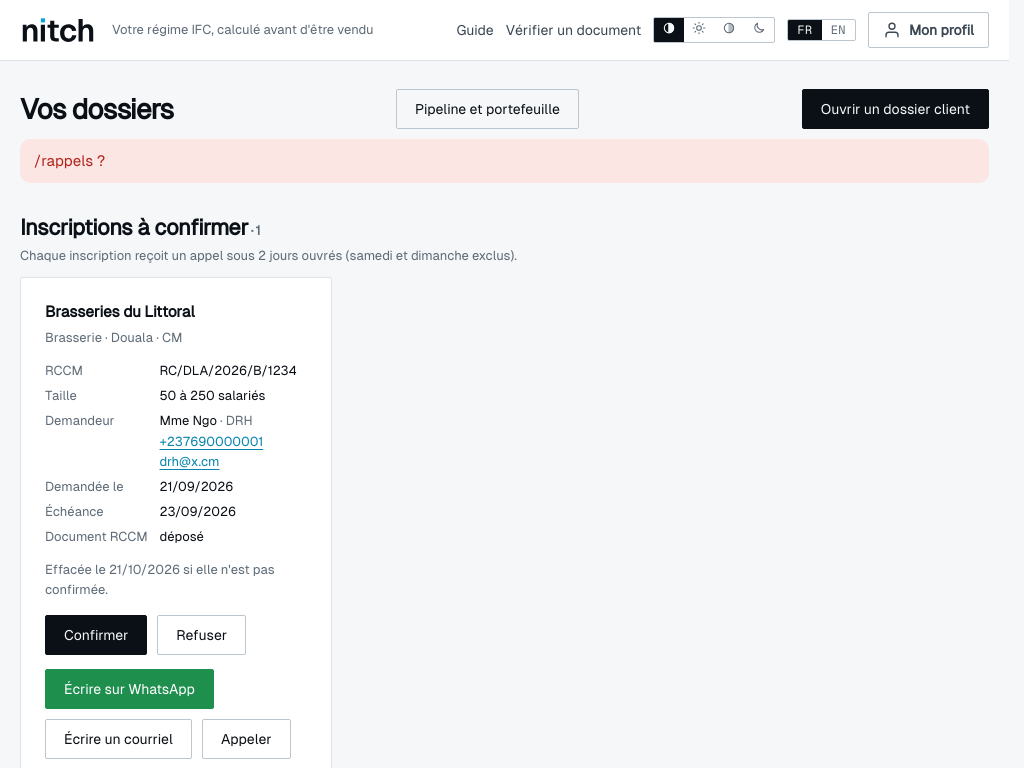
la file des inscriptions › confirmer envoie ce qui a été vérifié et le conseiller choisi, puis relit la file
Click the button "Confirmer" at (96, 635), box [45, 615, 147, 655]
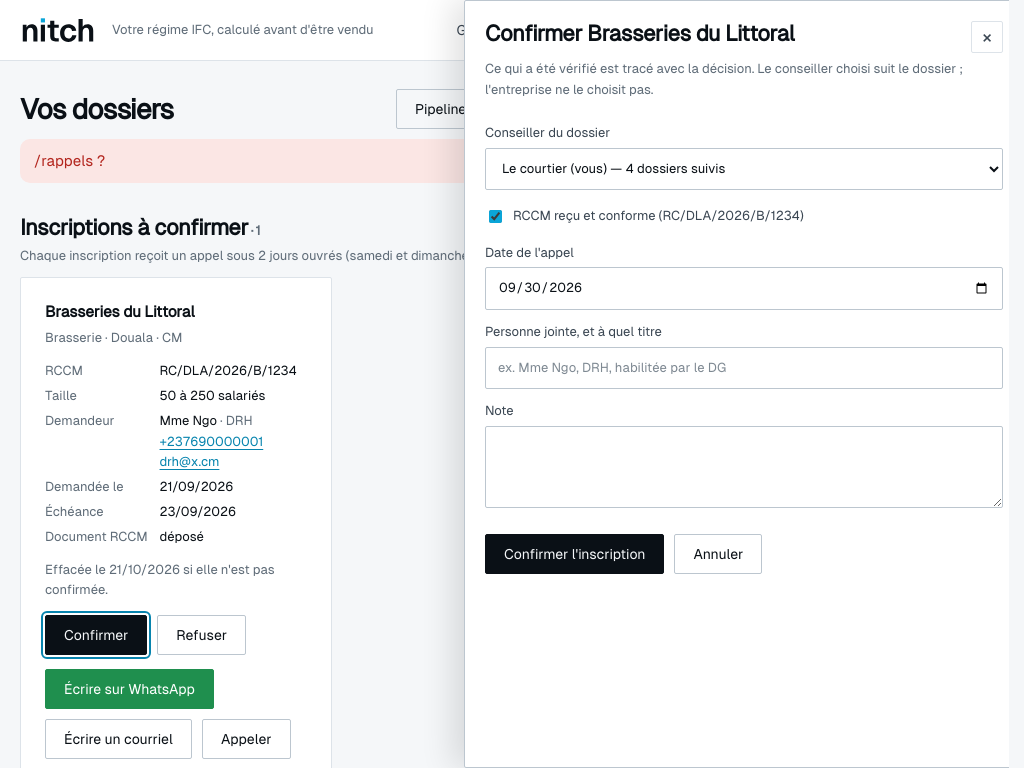
Type "2026-09-25" into the date field labelled "Date de l'appel" at (744, 289), box [485, 267, 1003, 310]
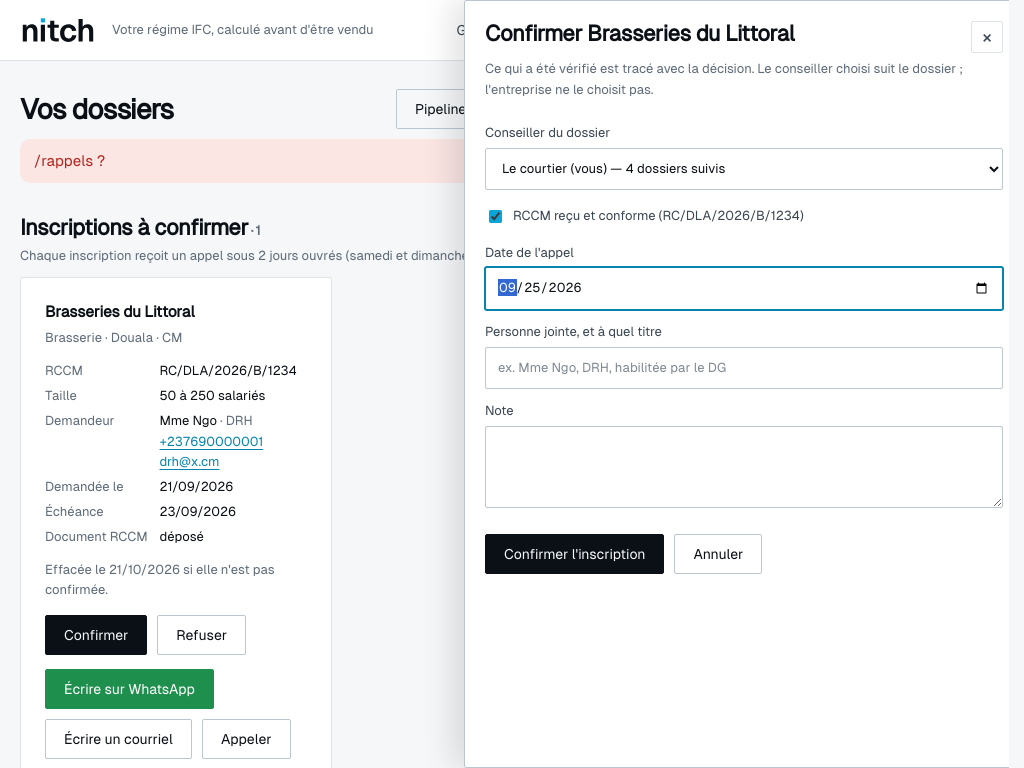
Type "Mme Ngo, DRH" into the field labelled "Personne jointe, et à quel titre" at (744, 368), box [485, 347, 1003, 389]
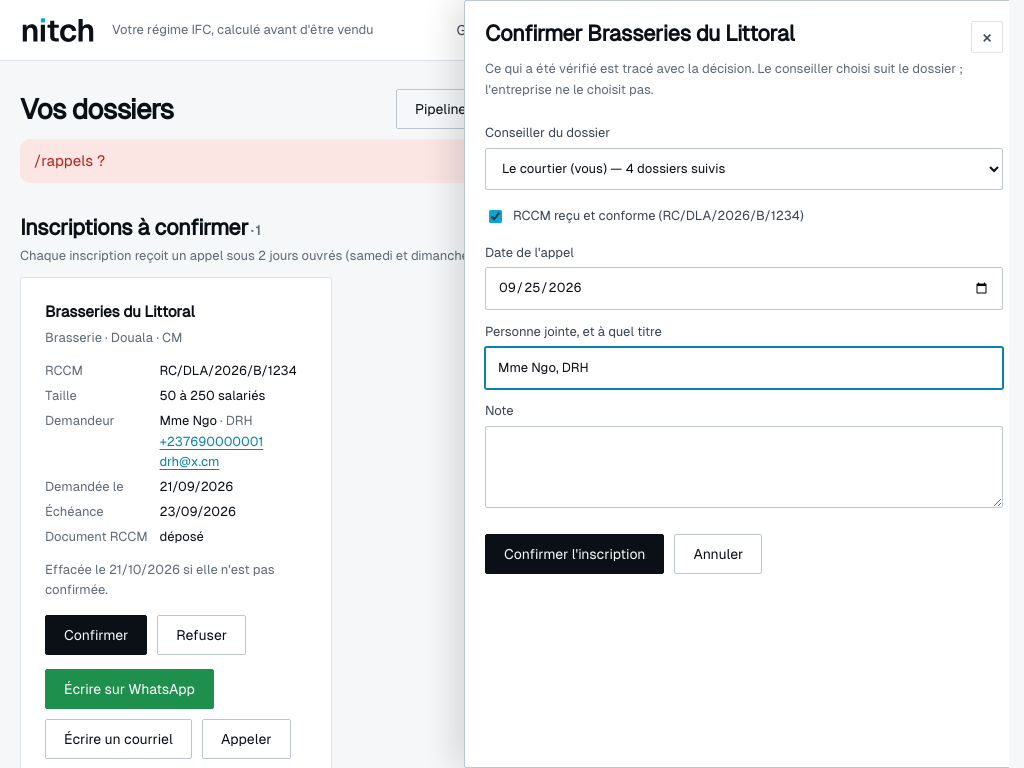
Type "Appel au siège." into the text box labelled "Note" at (744, 467), box [485, 426, 1003, 508]
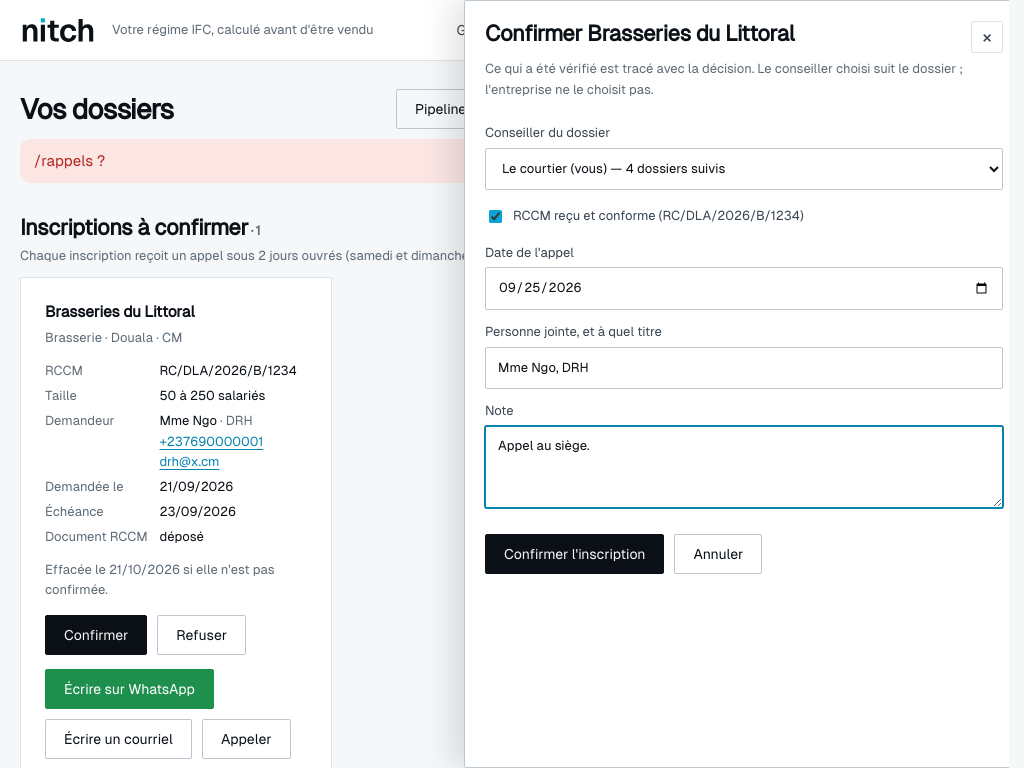
expect the dropdown labelled "Conseiller du dossier" shows "Le courtier (vous) — 4 dossiers suivis": met
Select "Awa Nkoulou — 1 dossier suivi" in the dropdown labelled "Conseiller du dossier" at (744, 169), box [485, 148, 1003, 190]
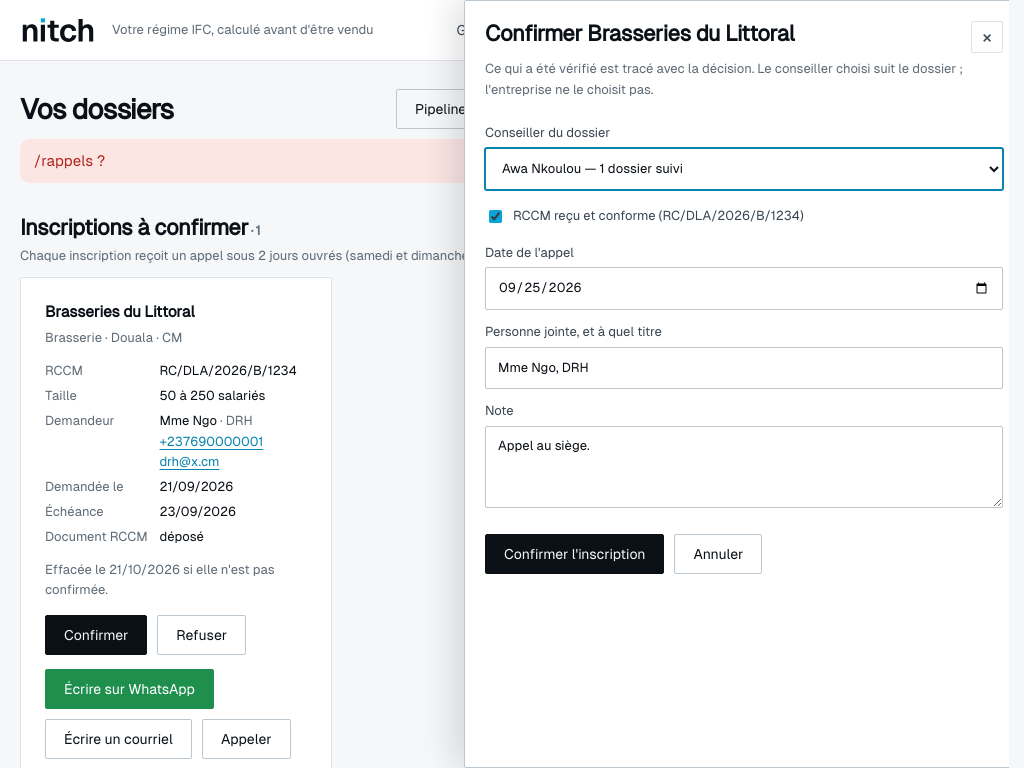
Click the button "Confirmer l'inscription" at (575, 554), box [485, 534, 664, 574]
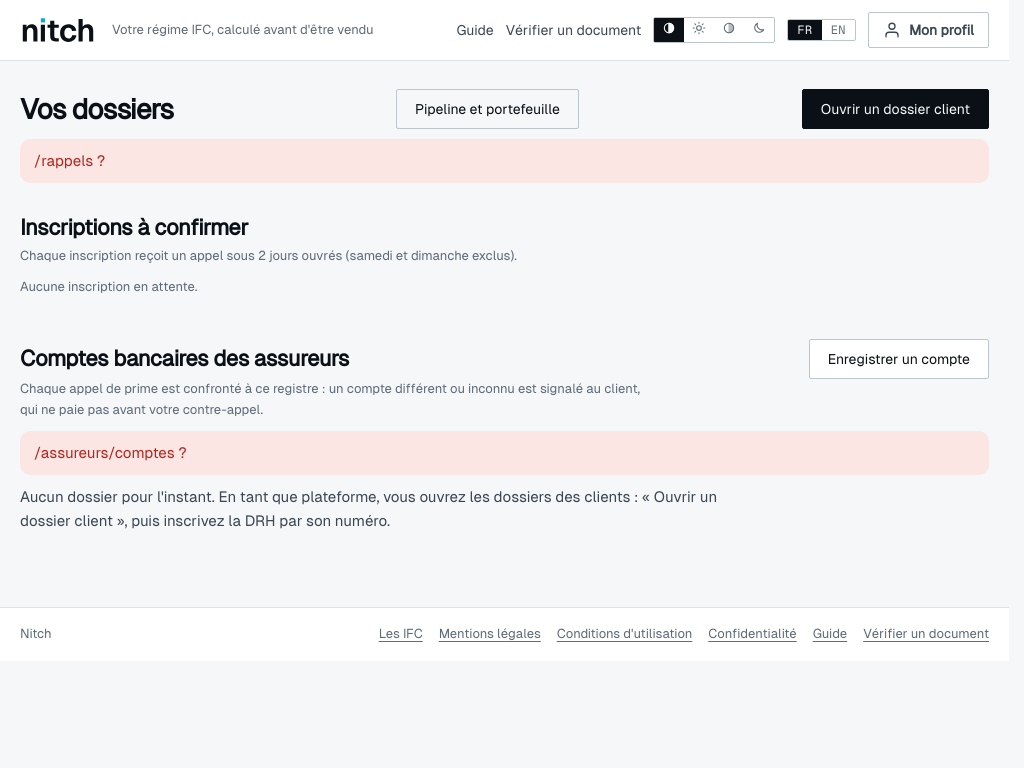
expect the text "Aucune inscription en attente." is shown: met, box [20, 279, 197, 294]
